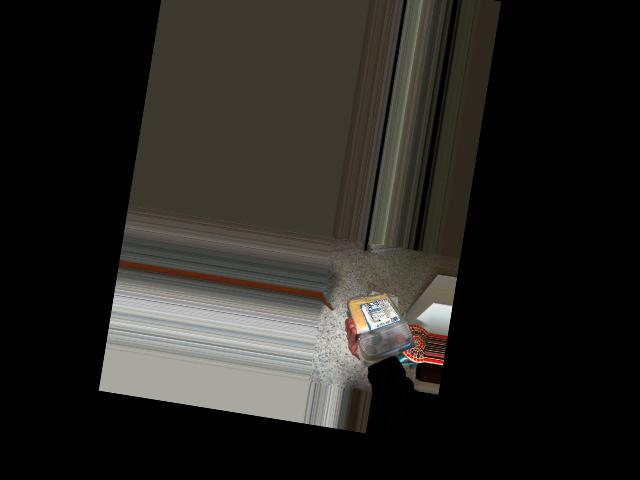cheese: (348, 283, 423, 363)
